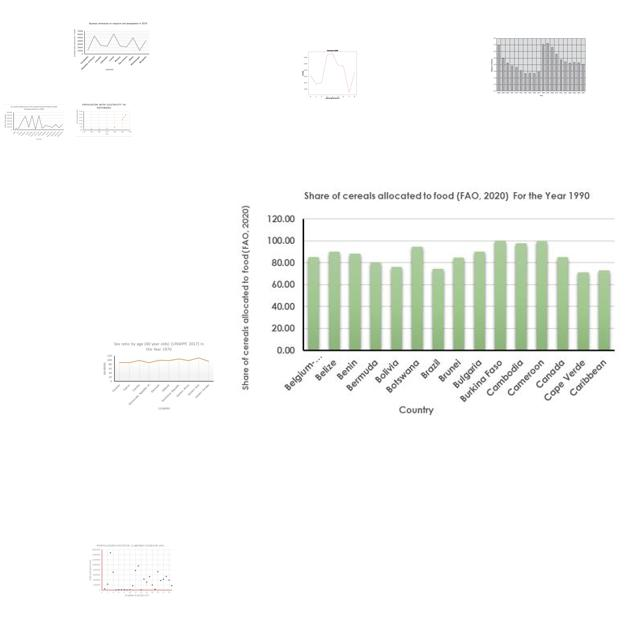Graph: (224, 188, 623, 423), (100, 339, 215, 411), (490, 36, 587, 97), (89, 543, 174, 597), (291, 45, 372, 101), (72, 20, 151, 72), (3, 104, 65, 141), (75, 102, 133, 137)
